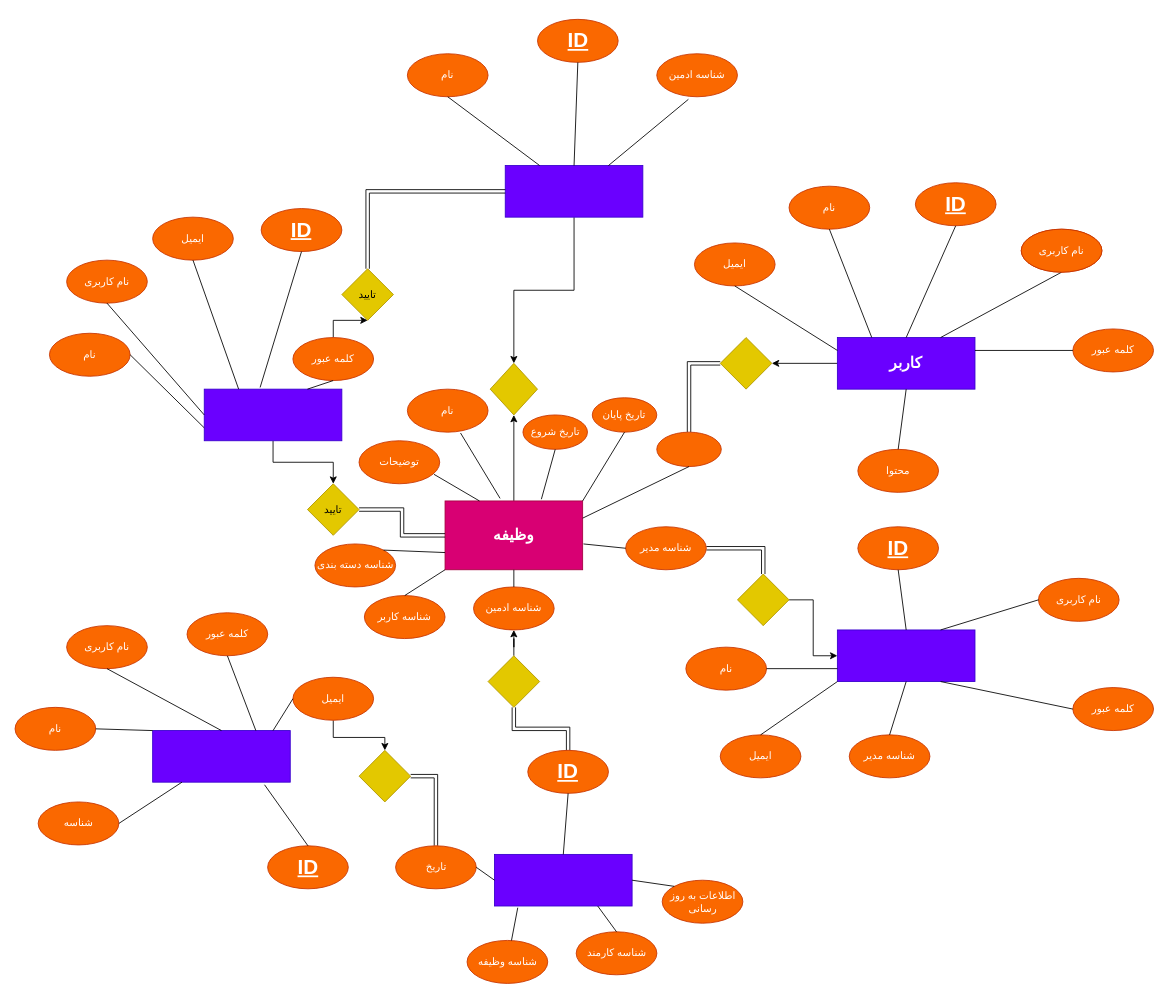
Some shapes in this 1169 by 998 pixel diagram are drawn without their labels. Each missing label, with the centre of its shape:
"ادمین" belongs at point 272,414.
"به روز رسانی" belongs at point 384,775.
"به روز رسانی وظیفه" belongs at point 563,880.
"تعلق داشتن" belongs at point 513,388.
"دارد" belongs at point 513,681.
"درخواست" belongs at point 745,363.
"دسته بندی وظیفه" belongs at point 573,191.
"مدیر" belongs at point 763,599.
"مدیریت پروژه" belongs at point 906,655.
"وضعیت" belongs at point 688,449.
"کارمند" belongs at point 221,756.
